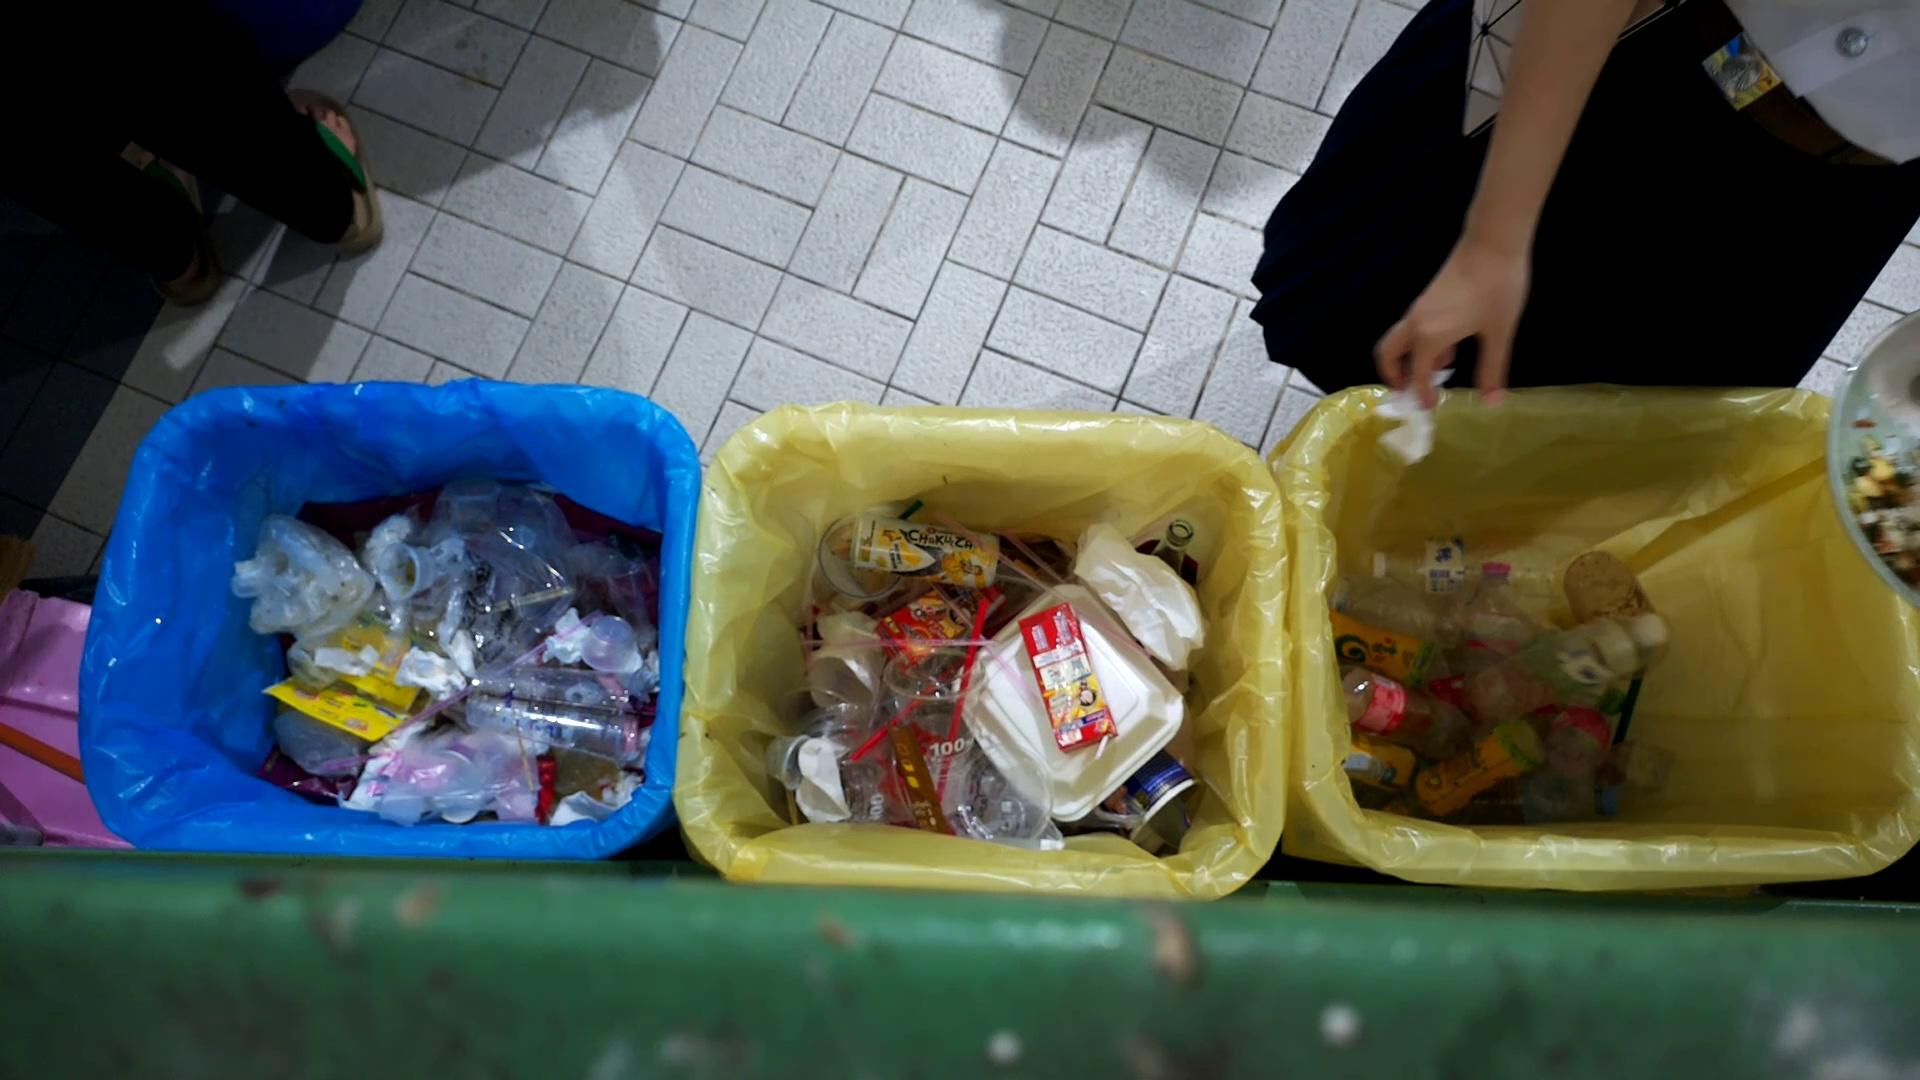can: (844, 509, 1004, 591)
filled plastic bag: (384, 473, 580, 687)
food container: (948, 580, 1193, 828), (795, 736, 856, 825), (373, 541, 438, 604), (579, 615, 642, 675), (761, 731, 814, 796)
milk carton: (1014, 591, 1121, 761), (870, 583, 1013, 678)
plastic bag: (1072, 522, 1215, 678), (228, 509, 378, 647), (375, 716, 542, 831)
plastic bottle: (1462, 608, 1675, 727), (1379, 704, 1548, 815), (1337, 661, 1486, 761), (1353, 535, 1577, 601), (1317, 605, 1440, 686)
plastic cup: (463, 661, 645, 771), (880, 646, 992, 822), (953, 740, 1059, 852)
straw: (930, 512, 1154, 661), (926, 579, 1040, 707), (848, 658, 961, 765), (936, 596, 993, 804), (479, 688, 657, 721), (1609, 650, 1648, 750), (794, 637, 1000, 649), (841, 621, 885, 640), (1092, 735, 1112, 765)
tissue paper: (1370, 361, 1462, 473), (392, 646, 469, 703), (537, 607, 592, 665), (433, 620, 481, 679), (310, 641, 382, 679)
